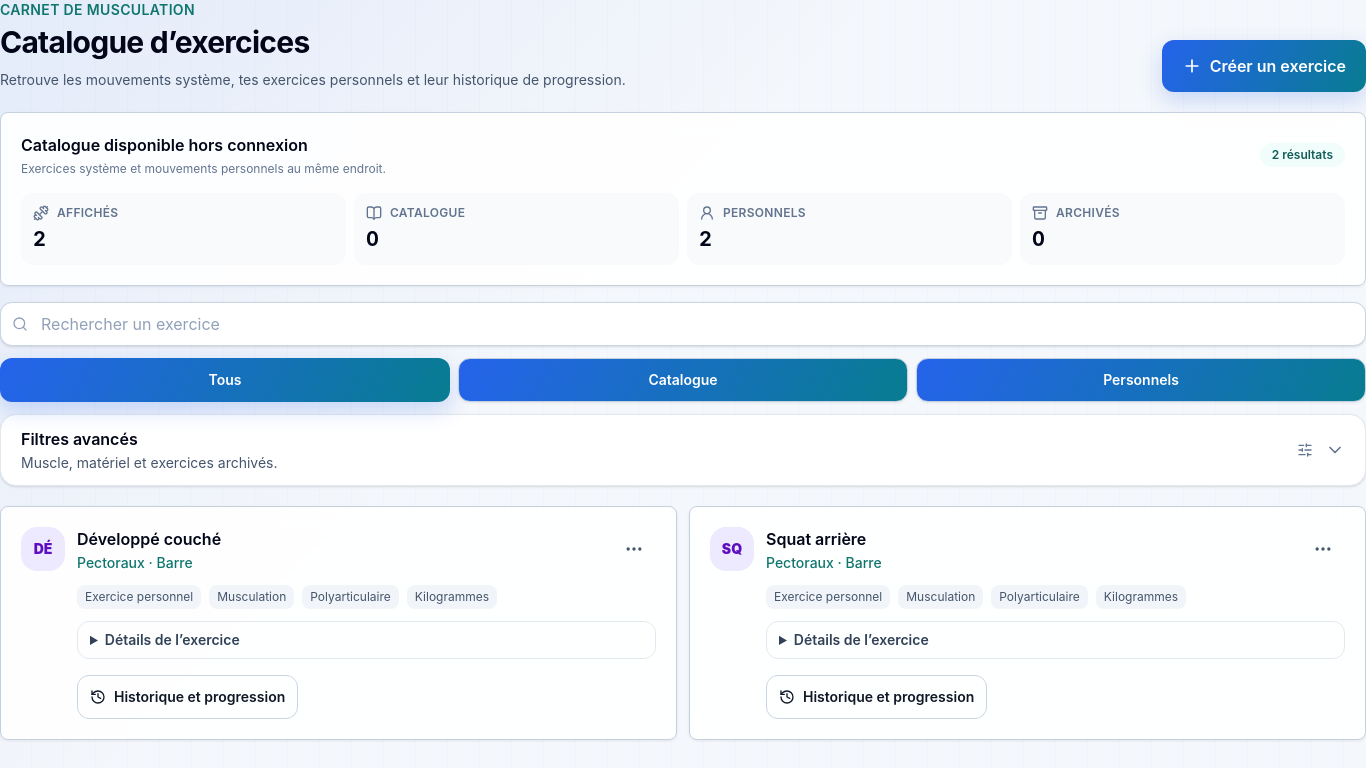
Test: StrengthExercisesPage › traite une recherche sans résultat comme un état filtré et permet de tout réafficher
The image size is (1366, 768).
Step 1. Type "tirage unilatéral poulie" into the search field labelled "Rechercher un exercice" → [683, 324], box [0,302,1365,346]
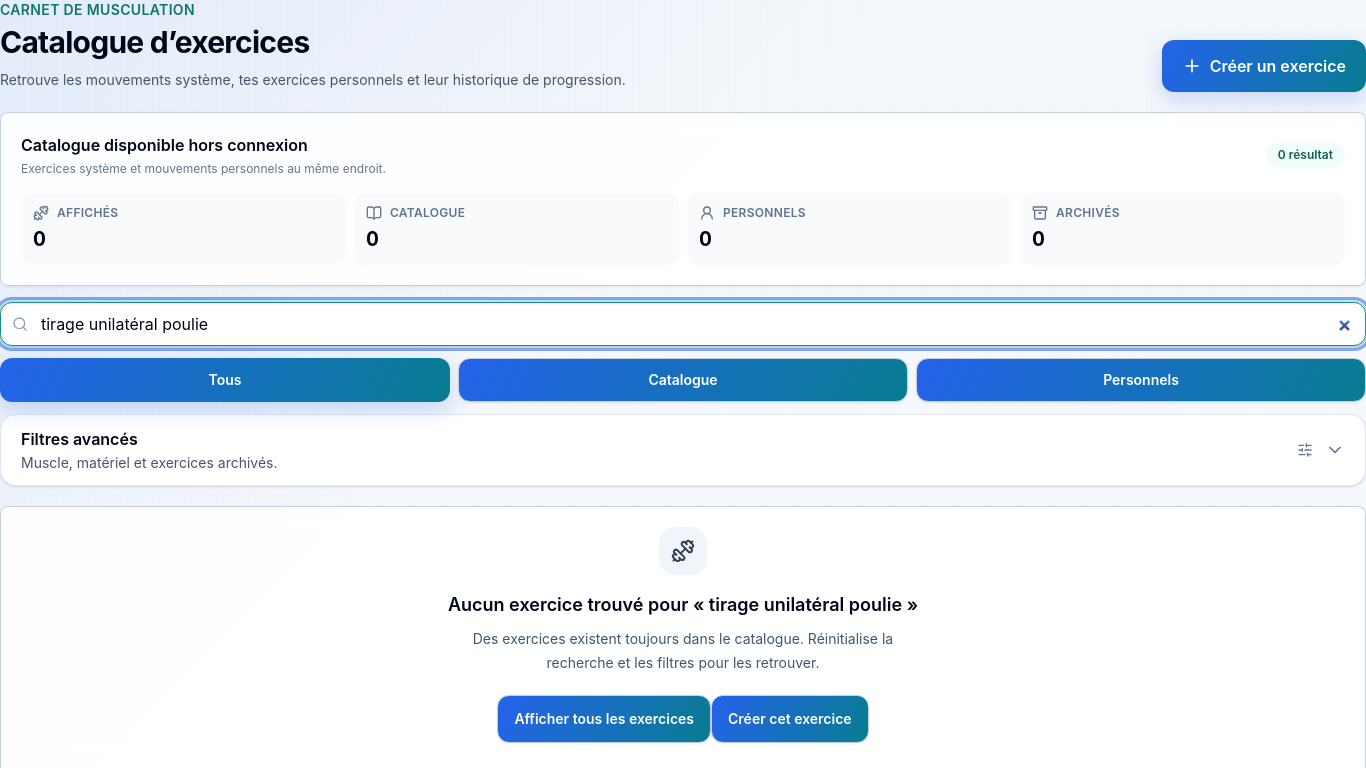
Step 2. Click the button "Afficher tous les exercices" → [604, 719], box [497,695,711,743]
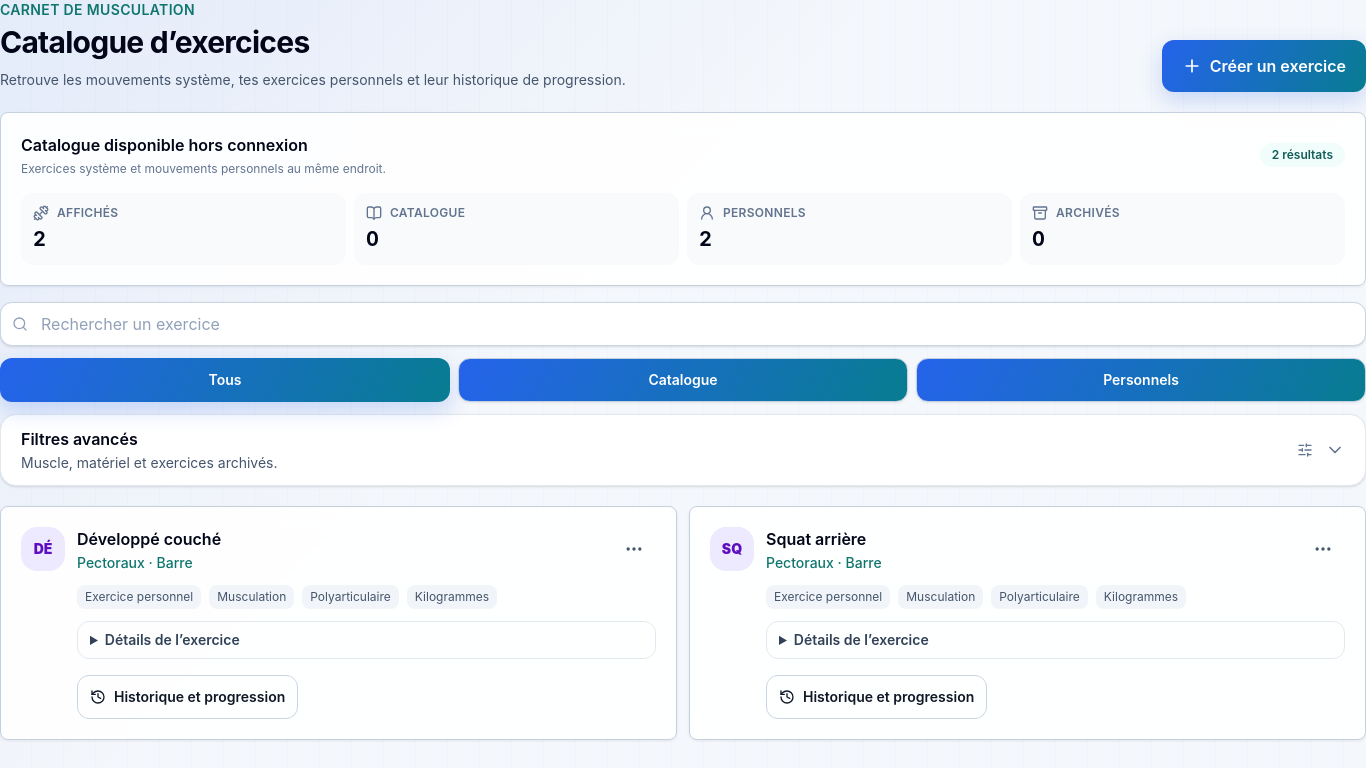
expect the search field labelled "Rechercher un exercice" is empty: met, box [0,302,1365,346]
expect the heading "Squat arrière" is shown: met, box [766,527,866,551]
expect the heading "Développé couché" is shown: met, box [77,527,221,551]
